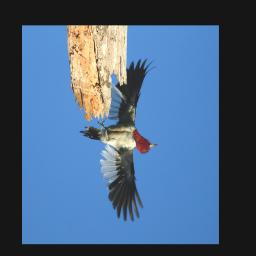Woodpecker: (79, 58, 158, 223)
